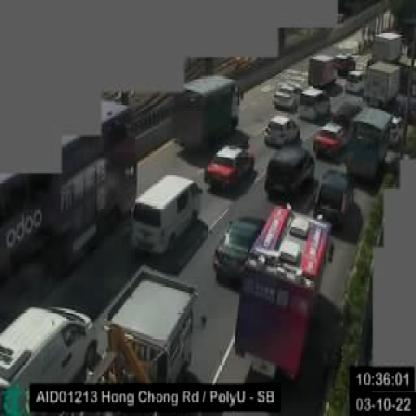Bus: (0, 101, 134, 320)
Car: (0, 302, 95, 407), (134, 173, 204, 253), (212, 213, 265, 279), (264, 146, 312, 198), (312, 172, 351, 225), (206, 142, 254, 180), (263, 116, 300, 144), (312, 120, 344, 152), (298, 88, 329, 118), (270, 82, 303, 109), (346, 69, 364, 92), (332, 52, 353, 71)
Truck: (235, 203, 333, 372), (172, 76, 240, 148), (344, 107, 392, 189), (366, 61, 400, 104), (371, 33, 403, 61), (308, 54, 333, 85)
